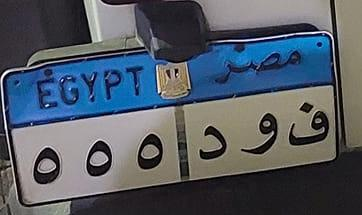5: (80, 118, 116, 185), (137, 122, 172, 184), (31, 149, 61, 186)
د: (192, 114, 235, 164)
ف: (285, 90, 330, 156)
و: (243, 102, 287, 164)
